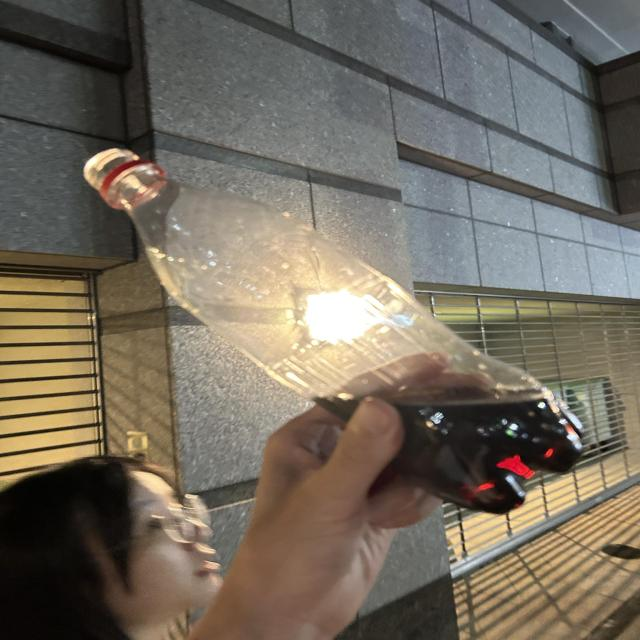medium: (84, 149, 582, 512)
